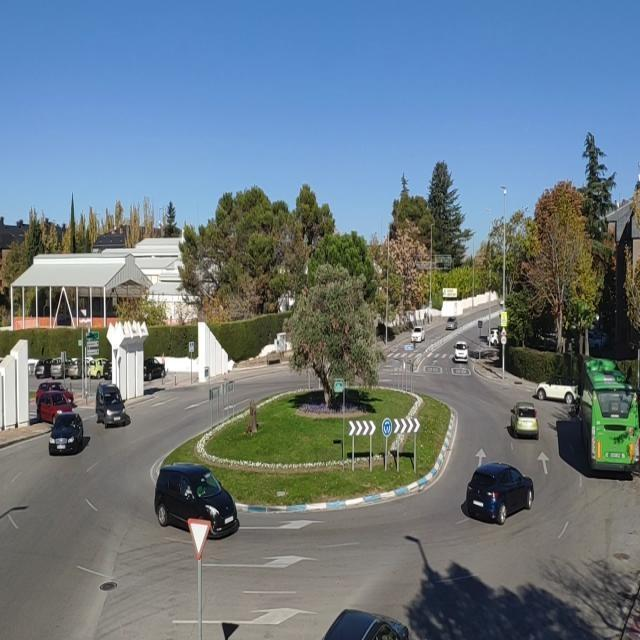Bus: (577, 358, 640, 475)
Car: (154, 463, 239, 537), (467, 461, 533, 526), (315, 608, 410, 640), (95, 382, 129, 428), (49, 412, 85, 454), (37, 392, 76, 424), (535, 377, 580, 402), (510, 402, 539, 438), (35, 383, 74, 404), (49, 357, 74, 379), (143, 358, 166, 381), (87, 358, 110, 380), (34, 359, 56, 379), (68, 358, 87, 380), (588, 330, 604, 351), (453, 342, 469, 362), (488, 327, 501, 346), (411, 326, 425, 343), (103, 361, 113, 379), (446, 317, 458, 330)
